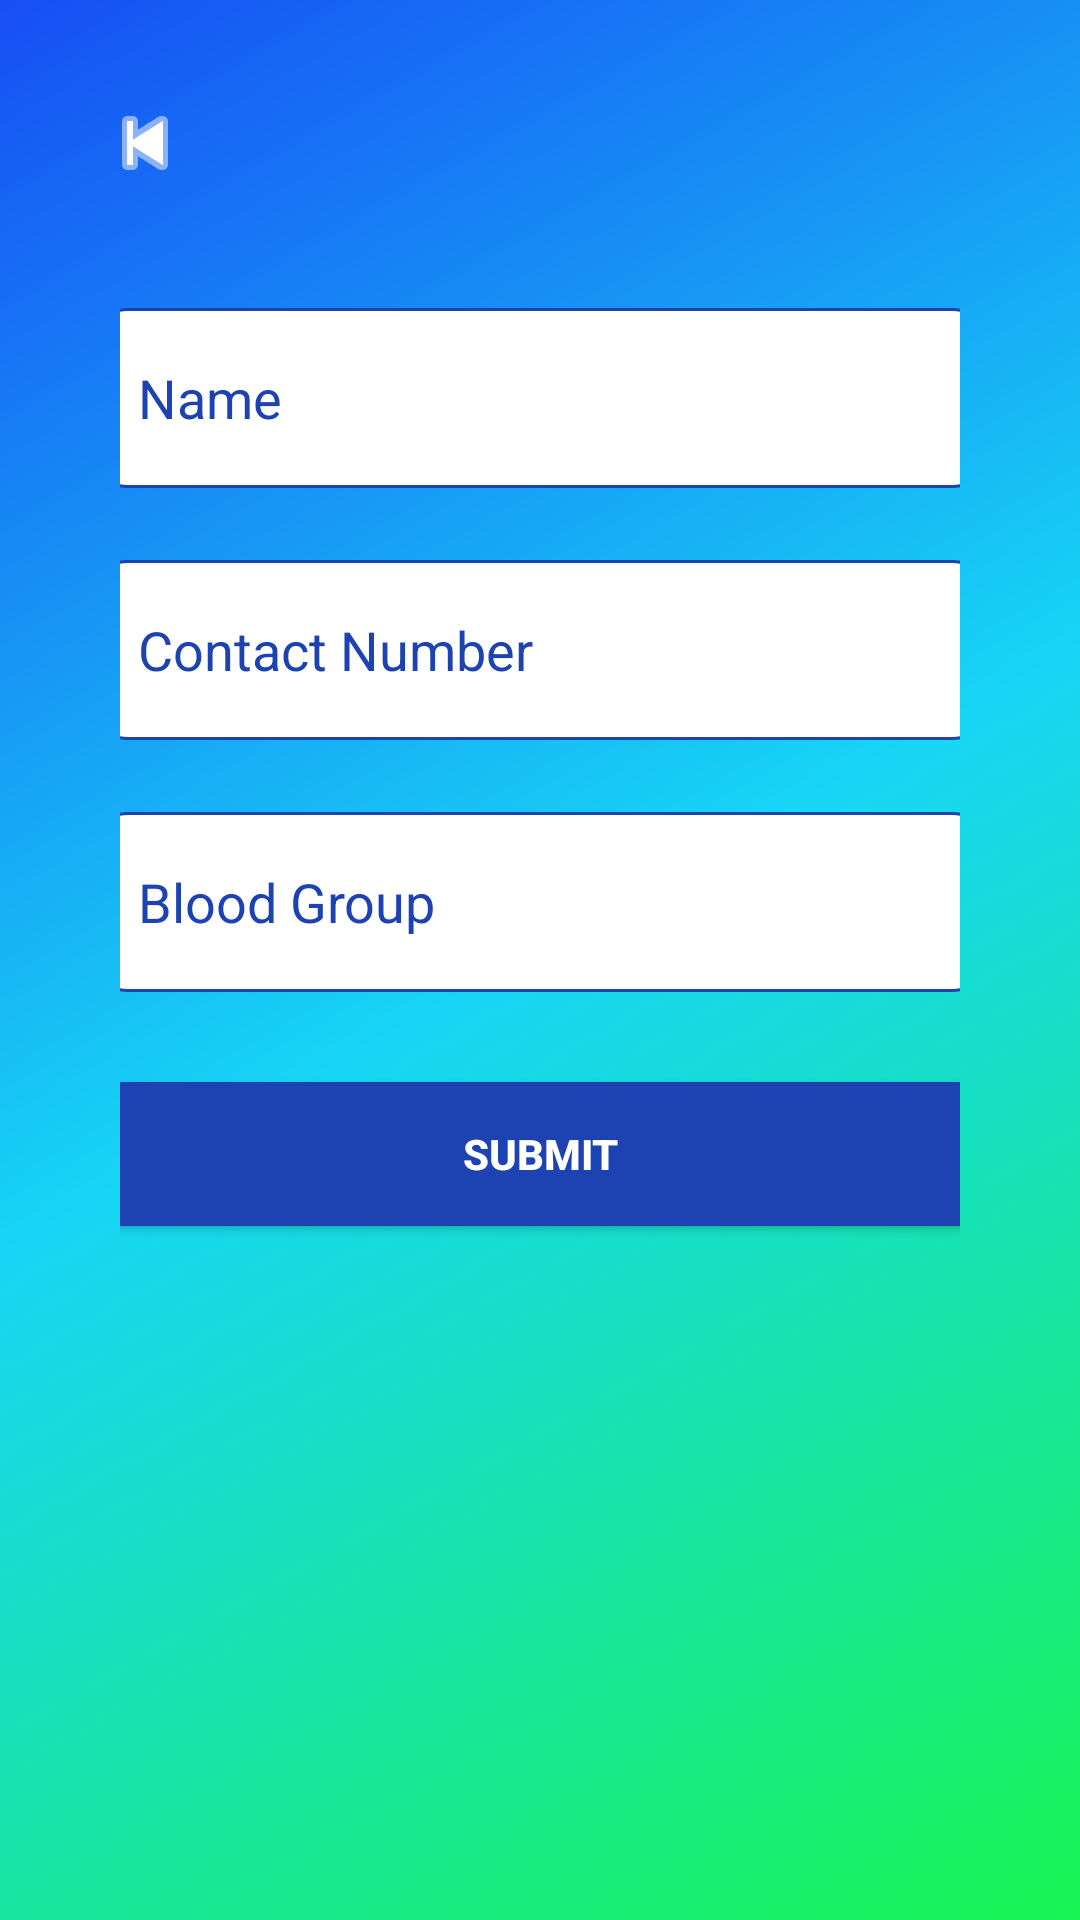

Named icons in this screenshot (1080 x 1920) and their bounding boxes, (x1, y1, x2, y2):
Back: (122, 116, 168, 170)
